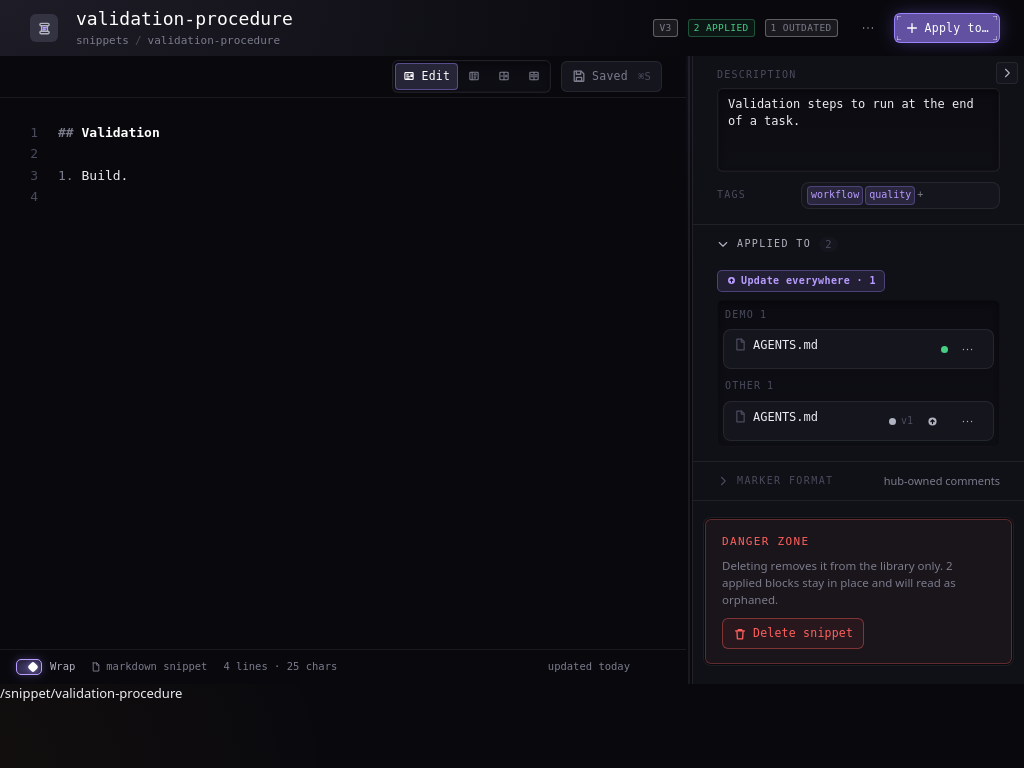
SnippetEditor — existing snippet › guarded delete lists affected files, warns about orphaning, and opens the next snippet
Click the button "Delete snippet" at coordinates (793, 634), box [722,618,864,649]
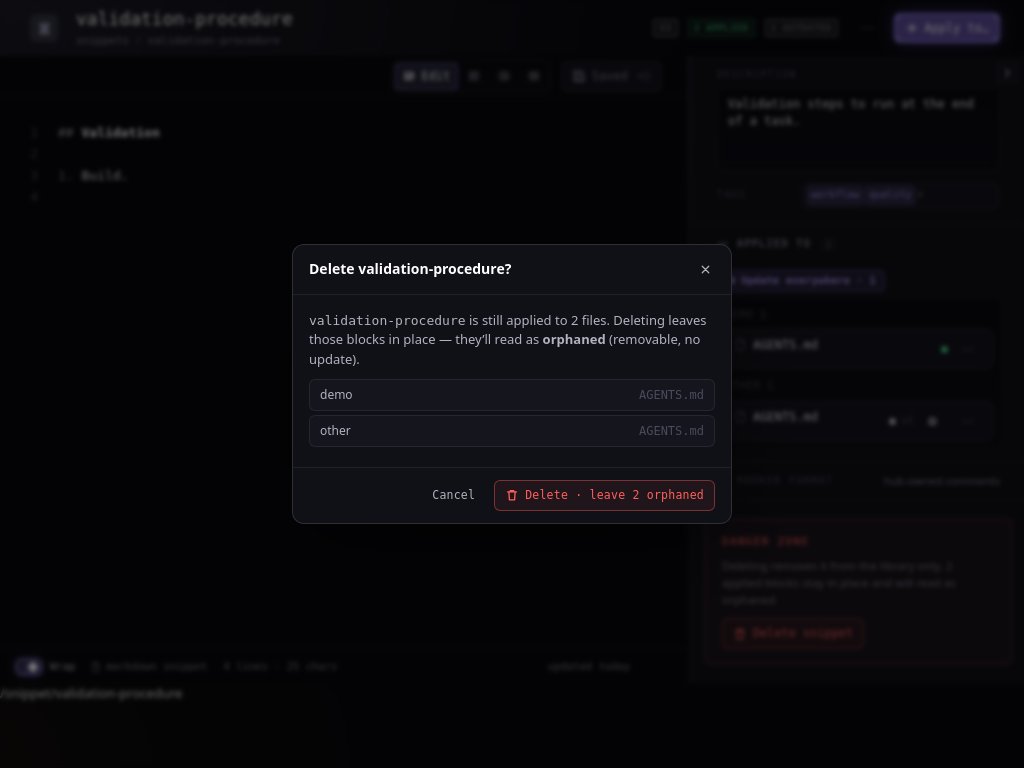
Check: the text "Delete validation-procedure?" is shown, box [309,259,511,278]
Check: the text "read as" is shown, box [309,311,706,348]
Check: the number of elements with class "snip-delete-file" is 2, box [309,379,715,411]; [309,415,715,447]
Click the button "Delete · leave 2 orphaned" at coordinates (605, 495), box [494,480,715,511]
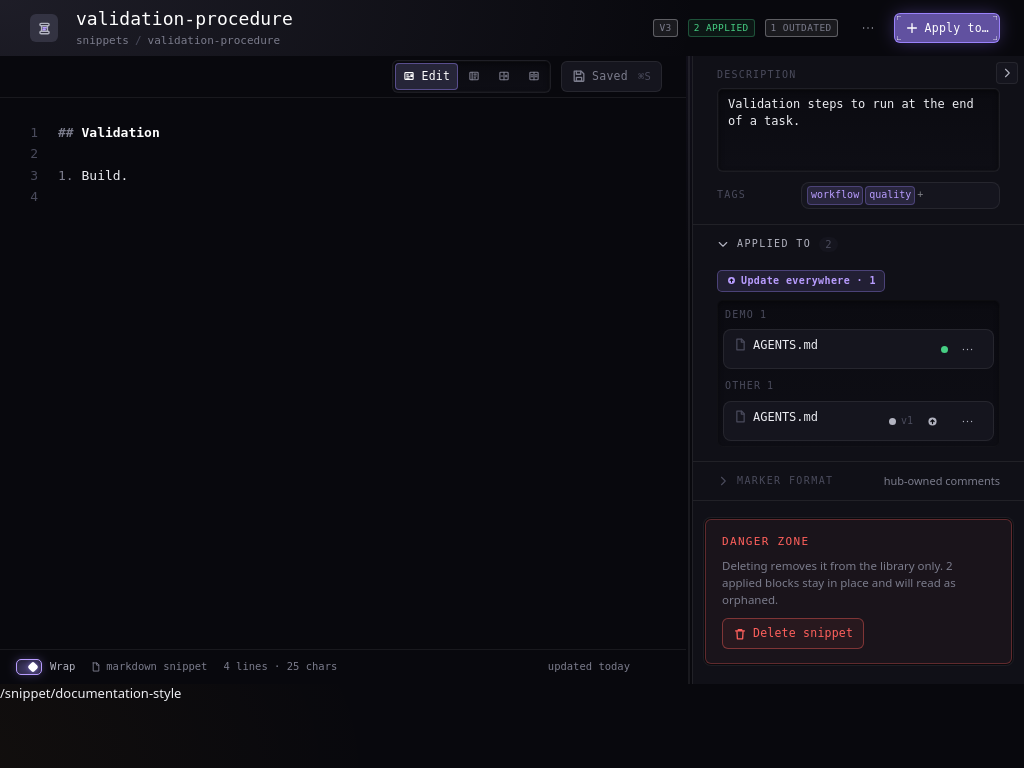
Check: the text with test id "loc" reads "/snippet/documentation-style", box [0,684,181,702]
